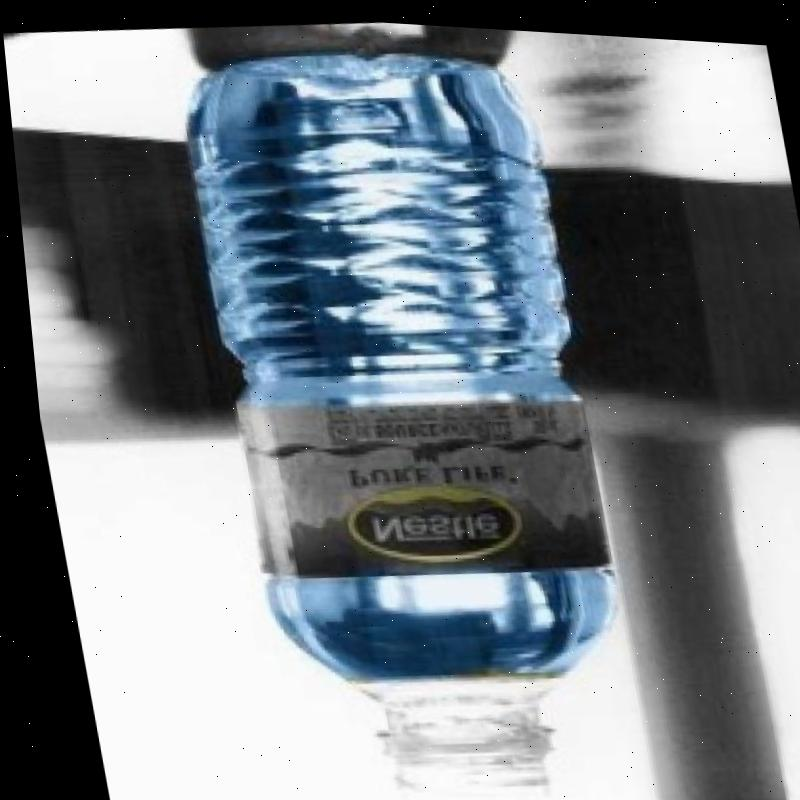botella: (172, 25, 637, 800)
